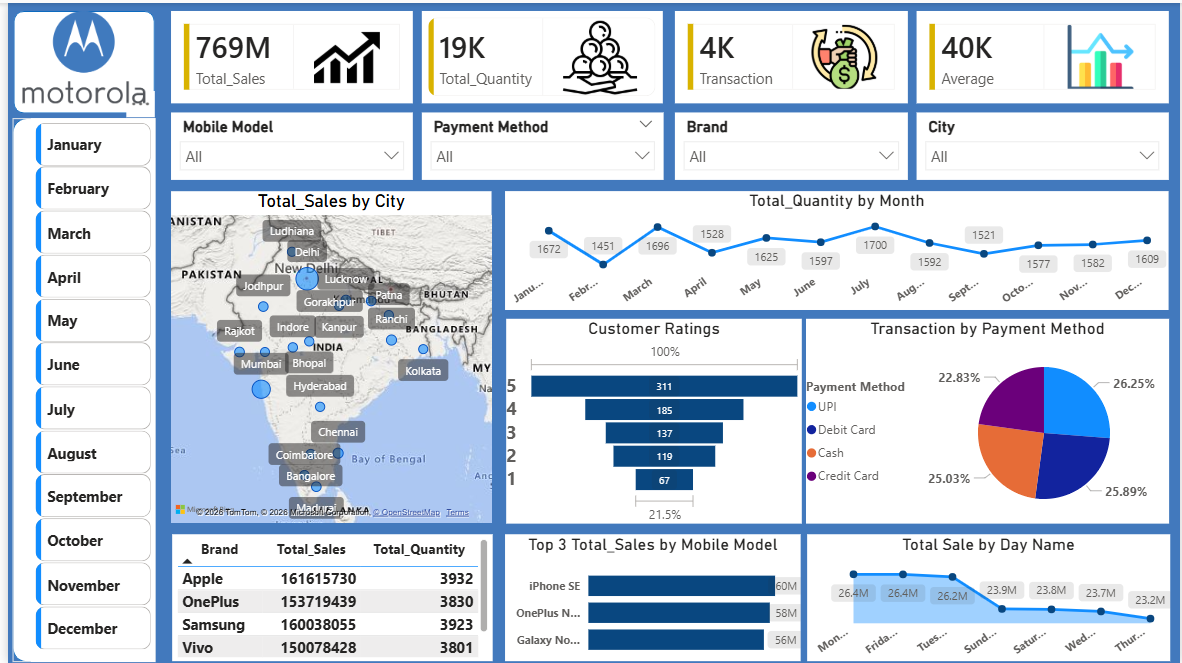

This screenshot's page, from the dashboard's own definition file:
{"tool":"powerbi","page":{"name":"Page 1","canvas":[1280,720],"ordinal":0},"visuals":[{"type":"shape","box":[6.8,8.2,154,111.7],"z":0},{"type":"shape","box":[5.5,125.4,155.3,594.1],"z":1000},{"type":"image","box":[15,8.2,136.3,100.8],"z":2000},{"type":"advancedSlicerVisual","fields":{"Values":["Sales_Data.Date.Variation.Date Hierarchy.Month"]},"box":[24.5,125.4,136.3,594.1],"z":3000},{"type":"cardVisual","fields":{"Data":["Sales_Data.Total_Sales"]},"box":[178.5,8.2,264.3,100.8],"z":4000},{"type":"cardVisual","fields":{"Data":["Sales_Data.Total_Quantity"]},"box":[452.4,8.2,263,100.8],"z":5000},{"type":"cardVisual","fields":{"Data":["Sales_Data.Transaction"]},"box":[727.6,8.2,254.8,100.8],"z":6000},{"type":"cardVisual","fields":{"Data":["Sales_Data.Average"]},"box":[992,8.2,275.2,100.8],"z":7000},{"type":"map","fields":{"Category":["Sales_Data.City"],"Size":["Sales_Data.Total_Sales"]},"box":[178.5,205.8,350.2,362.4],"z":8000},{"type":"lineChart","fields":{"Category":["Sales_Data.Date.Variation.Date Hierarchy.Month","Sales_Data.Date.Variation.Date Hierarchy.Day"],"Y":["Sales_Data.Total_Quantity"]},"box":[542.3,205.8,724.9,129.4],"z":9000},{"type":"barChart","title":"Top 3 Total_Sales by Mobile Model","fields":{"Category":["Sales_Data.Mobile Model"],"Y":["Sales_Data.Total_Sales"]},"box":[542.3,580.5,322.9,139],"z":10000},{"type":"pieChart","fields":{"Category":["Sales_Data.Payment Method"],"Y":["Sales_Data.Transaction"]},"box":[871,345.2,396.4,223.8],"z":11000},{"type":"funnel","title":"Customer Ratings ","fields":{"Category":["Sales_Data.Customer Ratings"],"Y":["CountNonNull(Sales_Data.Customer Ratings)"]},"box":[543.7,344.7,322.9,223.5],"z":12000},{"type":"areaChart","title":"Total Sale by Day Name","fields":{"Category":["Sales_Data.Day Name"],"Y":["Sales_Data.Total_Sales"]},"box":[872.1,580.5,396.5,139],"z":13000},{"type":"tableEx","fields":{"Values":["Sales_Data.Brand","Sales_Data.Total_Sales","Sales_Data.Total_Quantity"]},"box":[179.9,580.5,350.2,139],"z":14000},{"type":"slicer","fields":{"Values":["Sales_Data.Mobile Model"]},"box":[178.5,119.9,264.3,73.6],"z":15000},{"type":"slicer","fields":{"Values":["Sales_Data.Payment Method"]},"box":[452.4,119.9,264.3,73.6],"z":16000},{"type":"slicer","fields":{"Values":["Sales_Data.Brand"]},"box":[727.6,119.9,254.8,73.6],"z":17000},{"type":"slicer","fields":{"Values":["Sales_Data.City"]},"box":[992,119.9,275.2,73.6],"z":18000}]}

Visuals, with their boxes in screenshot pixels (x1, y1, x2, y2), scaled from the page's 1280x720 canvas onto the 1182x663 screenshot:
shape: [left=6, top=8, right=148, bottom=110]
shape: [left=5, top=115, right=148, bottom=662]
image: [left=14, top=8, right=140, bottom=100]
advancedSlicerVisual - Sales_Data.Date.Variation.Date Hierarchy.Month: [left=23, top=115, right=148, bottom=662]
cardVisual - Sales_Data.Total_Sales: [left=165, top=8, right=409, bottom=100]
cardVisual - Sales_Data.Total_Quantity: [left=418, top=8, right=661, bottom=100]
cardVisual - Sales_Data.Transaction: [left=672, top=8, right=907, bottom=100]
cardVisual - Sales_Data.Average: [left=916, top=8, right=1170, bottom=100]
map - Sales_Data.City x Sales_Data.Total_Sales: [left=165, top=190, right=488, bottom=523]
lineChart - Sales_Data.Date.Variation.Date Hierarchy.Month x Sales_Data.Date.Variation.Date Hierarchy.Day: [left=501, top=190, right=1170, bottom=309]
"Top 3 Total_Sales by Mobile Model" barChart: [left=501, top=535, right=799, bottom=662]
pieChart - Sales_Data.Payment Method x Sales_Data.Transaction: [left=804, top=318, right=1170, bottom=524]
"Customer Ratings " funnel: [left=502, top=317, right=800, bottom=523]
"Total Sale by Day Name" areaChart: [left=805, top=535, right=1171, bottom=662]
tableEx - Sales_Data.Brand x Sales_Data.Total_Sales: [left=166, top=535, right=490, bottom=662]
slicer - Sales_Data.Mobile Model: [left=165, top=110, right=409, bottom=178]
slicer - Sales_Data.Payment Method: [left=418, top=110, right=662, bottom=178]
slicer - Sales_Data.Brand: [left=672, top=110, right=907, bottom=178]
slicer - Sales_Data.City: [left=916, top=110, right=1170, bottom=178]
